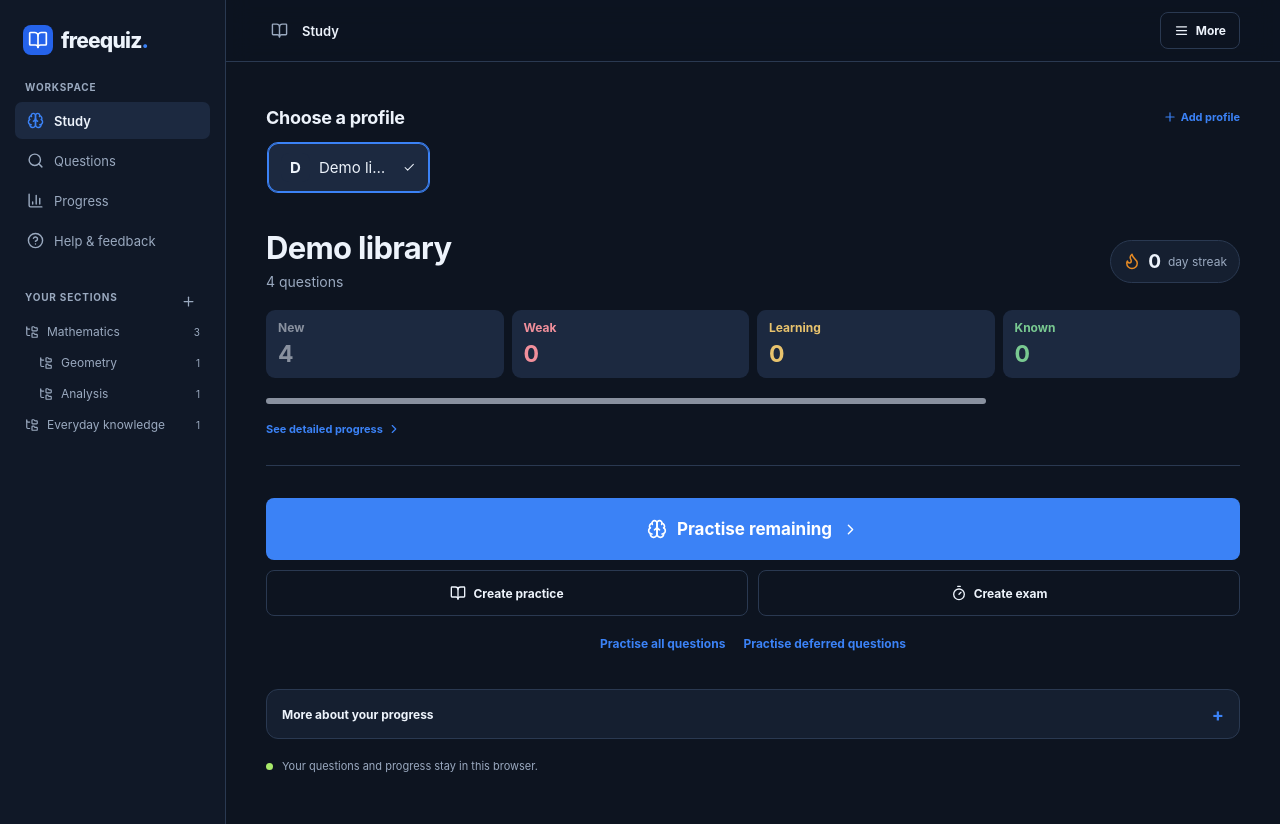
Freequiz › offers explicit answer modes in the question editor
Click the button "Questions" at (112, 160), box [15,142,210,179]
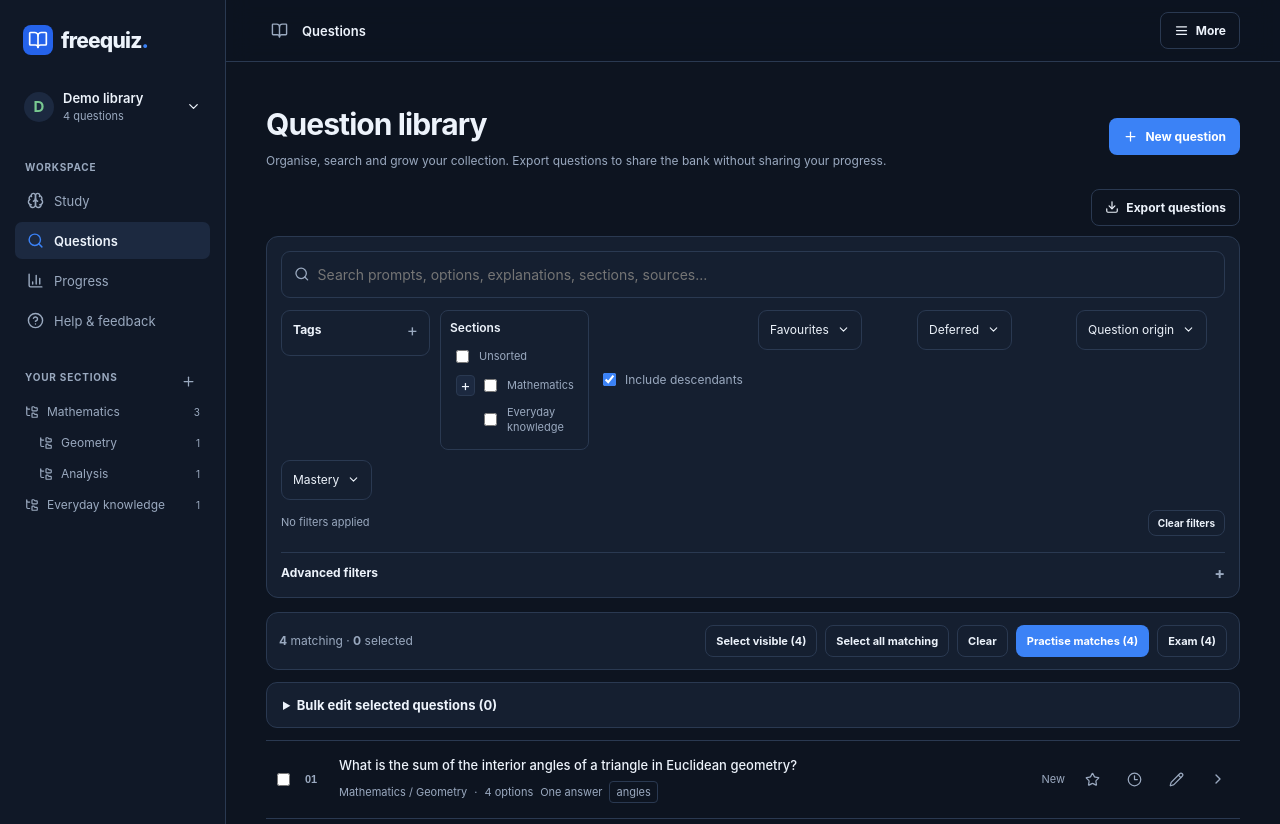
Click the button "New question" at (1175, 136), box [1109,118,1240,155]
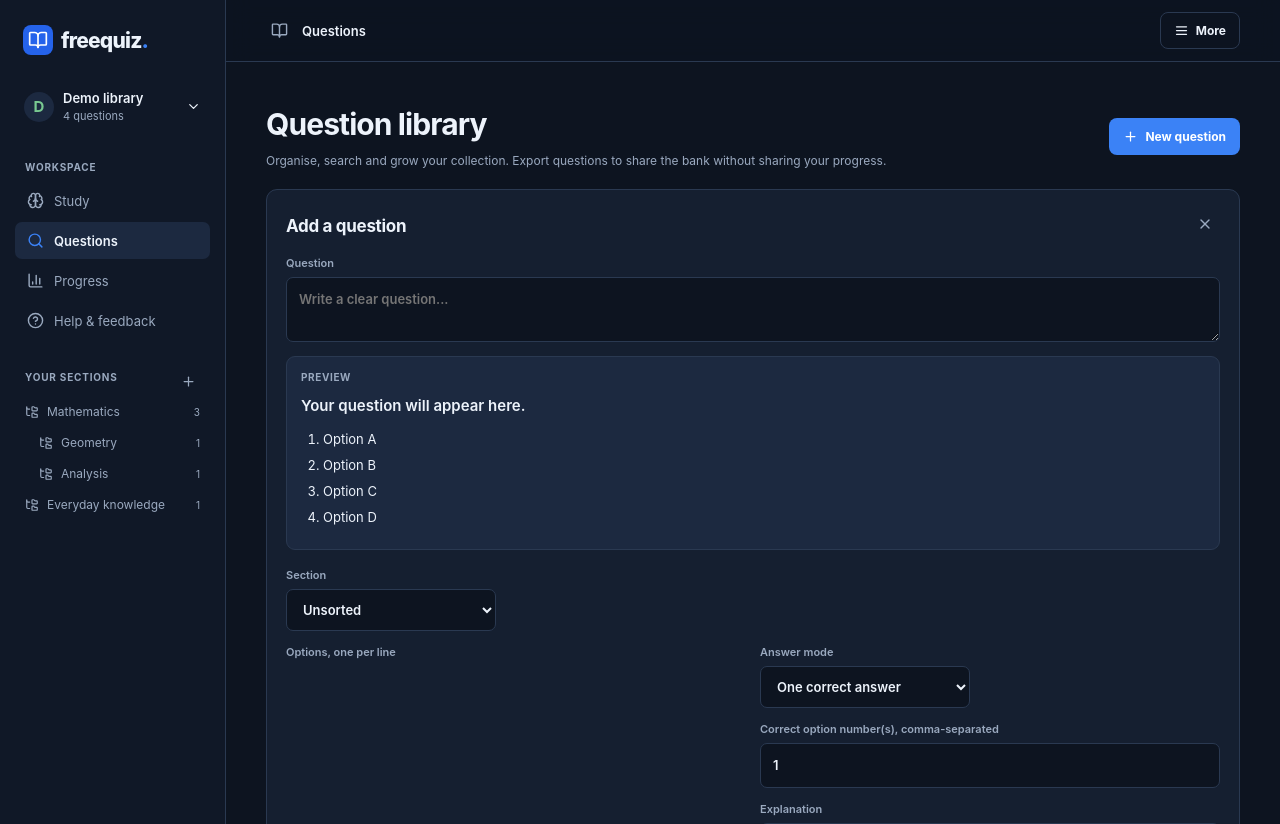
Now the dropdown labelled "Answer mode" is shown, box [760,666,970,708]
Now the field labelled "Correct option number(s), comma-separated" is shown, box [760,743,1220,788]
